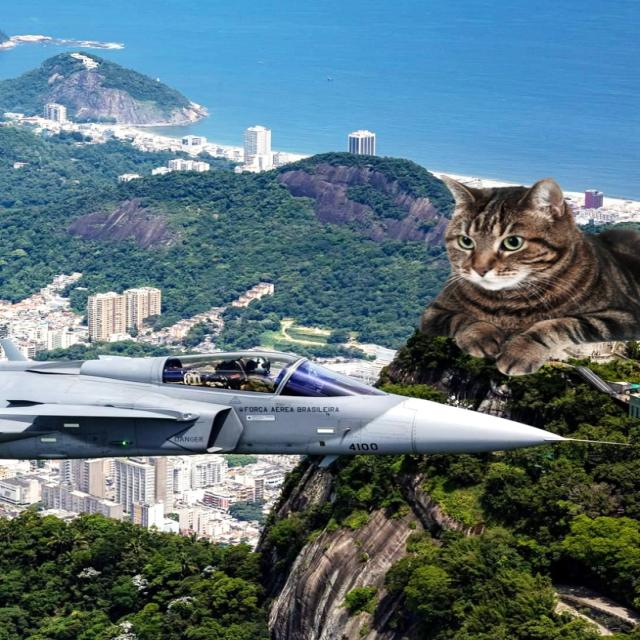MIL_Plane: (1, 338, 633, 460)
